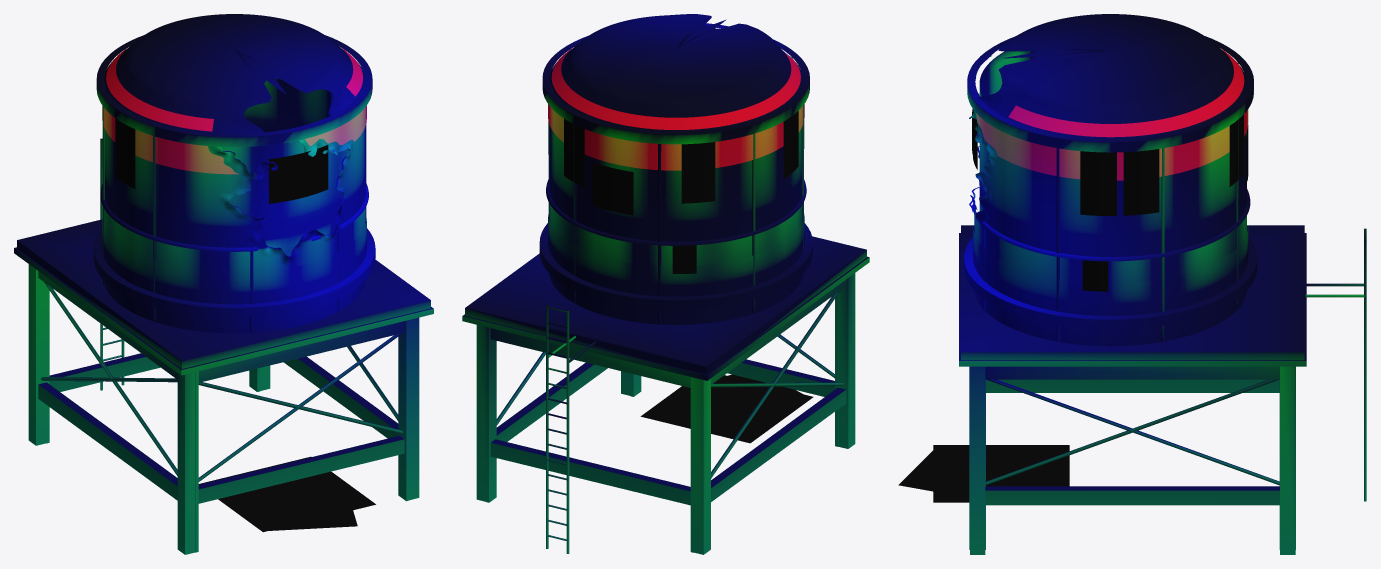
The model's file is watertower_damaged.glb.
3 views of the same model, side by side, from view 1: azimuth 30°, elevation 25°; view 2: azimuth 150°, elevation 25°; view 3: azimuth 270°, elevation 25° (orthographic). The views are drawn at different scales.
Parts seen in each view (by area): view 1: lod0; view 2: lod0; view 3: lod0.
Boxes of the visible parts, x1,y1,x2,y2 form: lod0: (14,14,433,554); lod0: (462,14,869,554); lod0: (898,14,1366,554).
Size of what is drawn, in the model's own units: 5.9 by 9.55 by 9.11.
